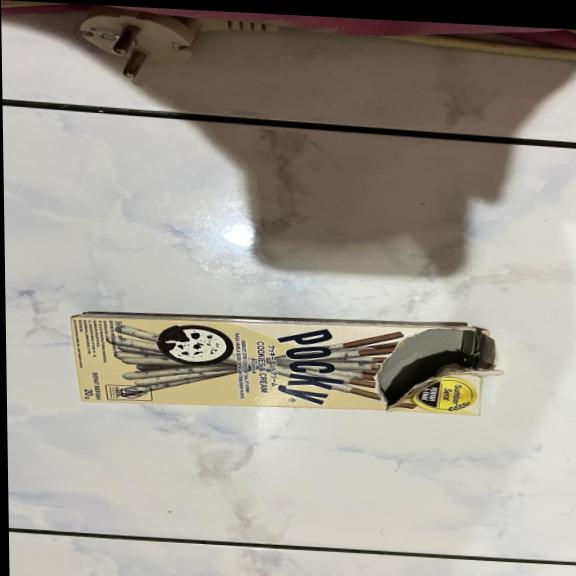Kertas: (68, 307, 490, 426)
